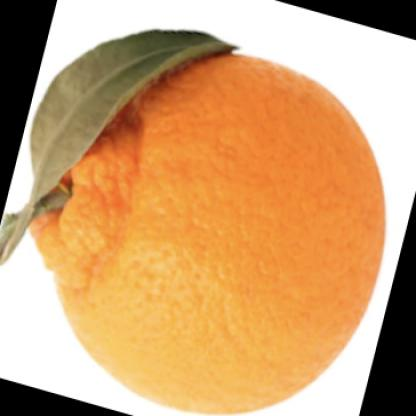orange: (32, 38, 394, 411)
